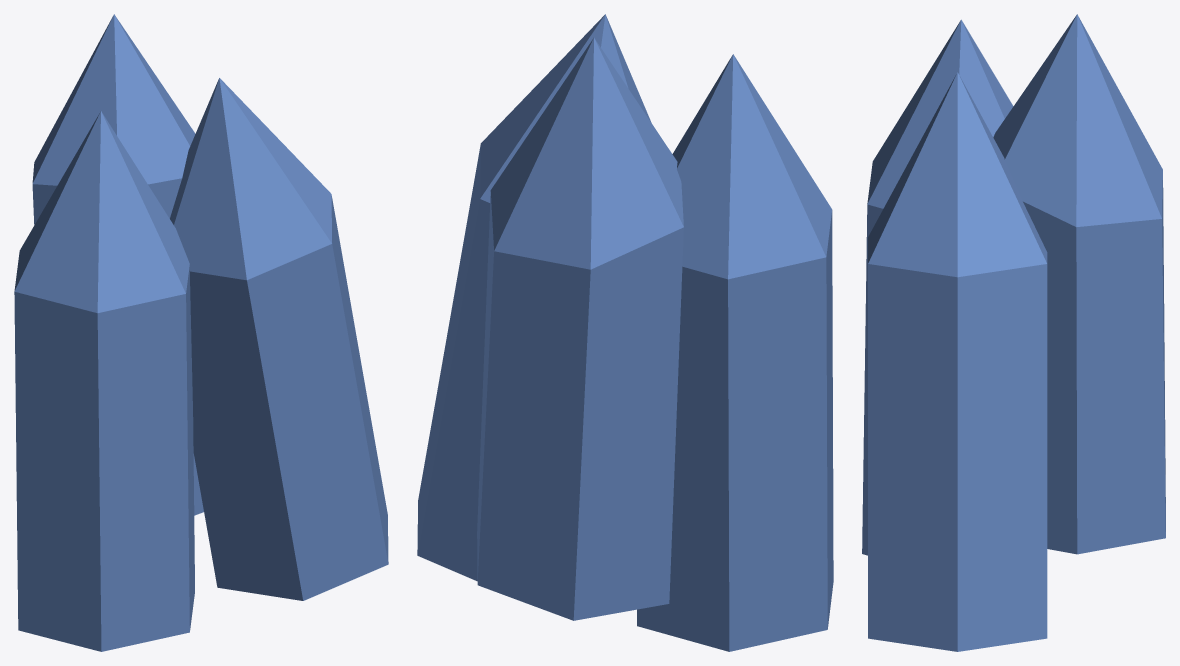
File: Crystals32.FBX
3 views of the same model, side by side, from view 1: azimuth 30°, elevation 25°; view 2: azimuth 150°, elevation 25°; view 3: azimuth 270°, elevation 25° (orthographic). The views are drawn at different scales.
Visible parts, largest first — view 1: out32; view 2: out32; view 3: out32.
Part boxes in pixels (x1,y1,x2,y2): out32: [14, 14, 388, 651]; out32: [417, 14, 833, 651]; out32: [862, 14, 1165, 651].
Size of the model in its own units: 73.34 by 103 by 50.36.
